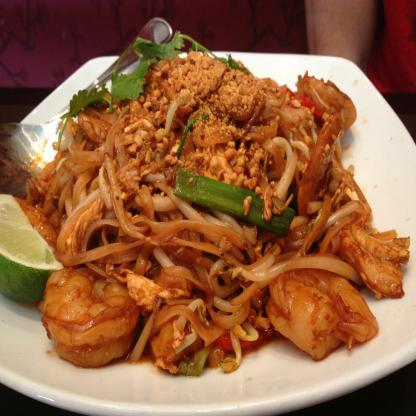Pad Thai: (0, 55, 402, 394)
